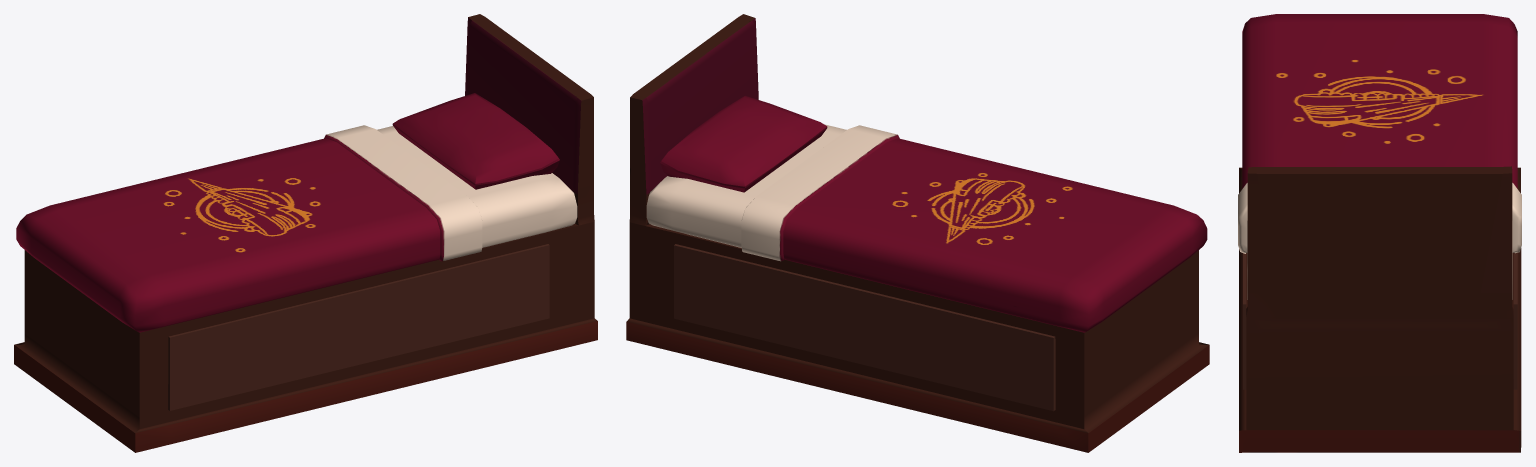
File: geo_bed.fbx
3 views of the same model, side by side, from view 1: azimuth 30°, elevation 25°; view 2: azimuth 150°, elevation 25°; view 3: azimuth 270°, elevation 25° (orthographic). The views are drawn at different scales.
Parts seen in each view (by area): view 1: bed; view 2: bed; view 3: bed.
Boxes of the visible parts, x1,y1,x2,y2 form: bed: [14, 14, 597, 452]; bed: [626, 14, 1209, 452]; bed: [1238, 14, 1521, 452].
Bounding box in the file's own units: 226 × 112 × 103.
